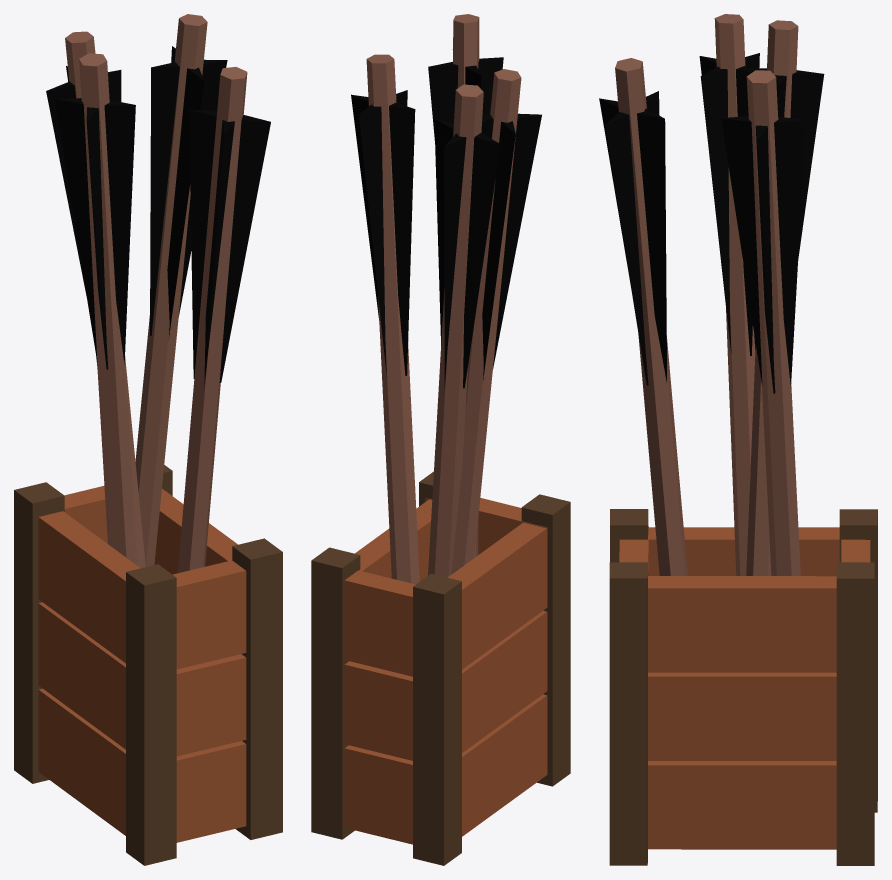
Rendered from BalistaArrowHolder.fbx.
3 views of the same model, side by side, from view 1: azimuth 30°, elevation 25°; view 2: azimuth 150°, elevation 25°; view 3: azimuth 270°, elevation 25° (orthographic). The views are drawn at different scales.
Parts seen in each view (by area): view 1: BallistaAmmo, Arrows.001; view 2: BallistaAmmo, Arrows.001; view 3: BallistaAmmo, Arrows.001.
Part boxes in pixels (x1,y1,x2,y2): BallistaAmmo: (14, 465, 282, 865); Arrows.001: (46, 14, 270, 573); BallistaAmmo: (311, 471, 570, 865); Arrows.001: (351, 14, 541, 584); BallistaAmmo: (609, 509, 877, 865); Arrows.001: (599, 14, 824, 575).
Bounding box in the file's own units: 271 × 1154 × 373.
